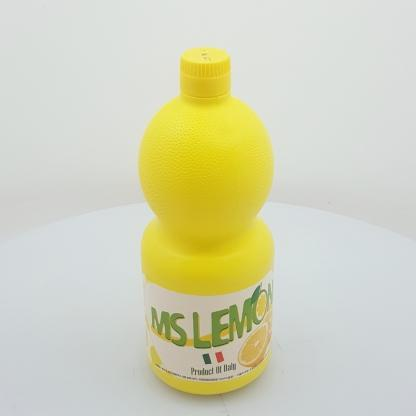-------: (138, 47, 274, 395)
